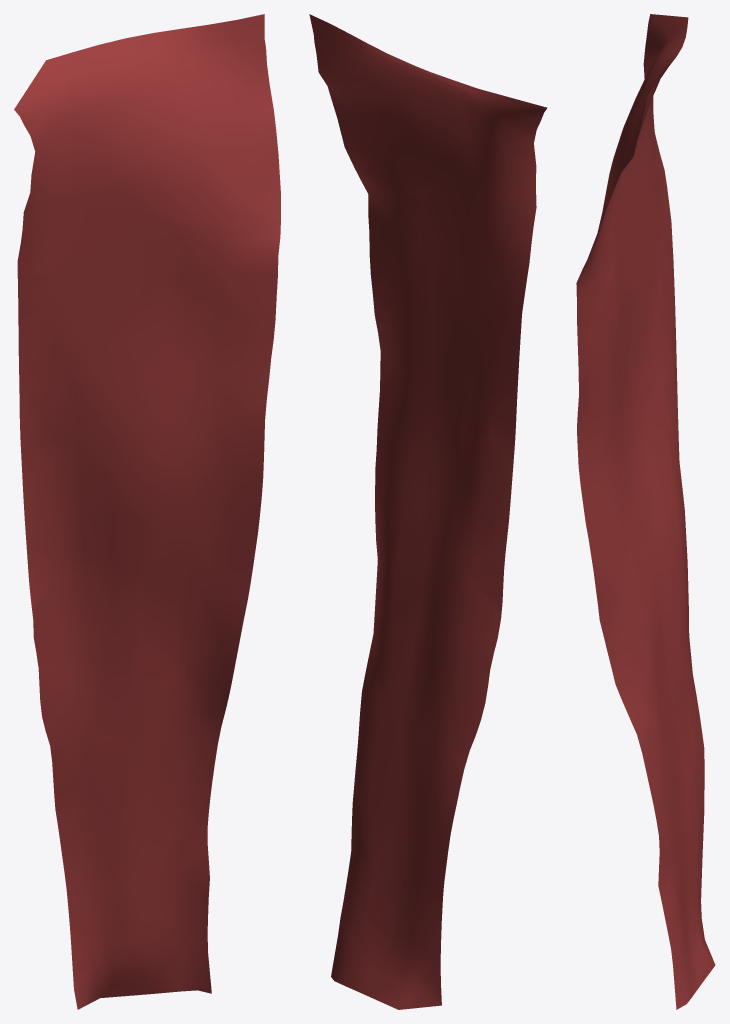
File: transverse-intermuscular-septum-of-leg-r.glb
The picture shows the model from 3 angles, left to right: view 1: azimuth 30°, elevation 25°; view 2: azimuth 150°, elevation 25°; view 3: azimuth 270°, elevation 25°; orthographic projection. The views are drawn at different scales.
Parts seen in each view (by area): view 1: Transverse intermuscular septum of leg.r; view 2: Transverse intermuscular septum of leg.r; view 3: Transverse intermuscular septum of leg.r.
Boxes of the visible parts, bbox=[...] form: Transverse intermuscular septum of leg.r: bbox=[14, 14, 280, 1009]; Transverse intermuscular septum of leg.r: bbox=[309, 14, 547, 1009]; Transverse intermuscular septum of leg.r: bbox=[576, 14, 715, 1009].
Bounding box in the file's own units: 0.0776 × 0.292 × 0.0395.
